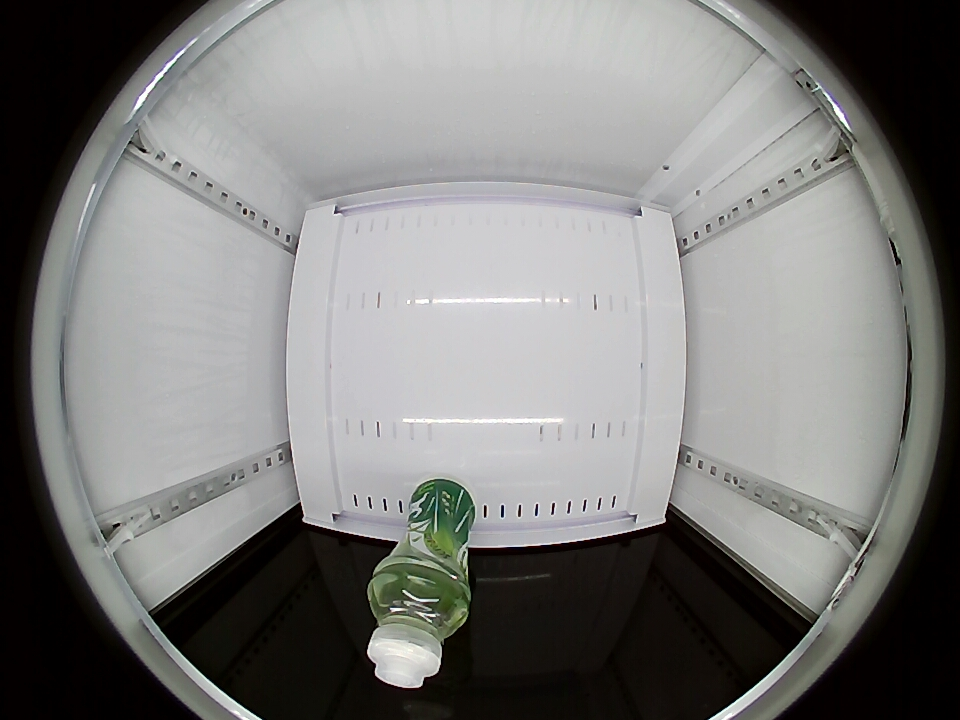jianjiao: (367, 563, 470, 688)
